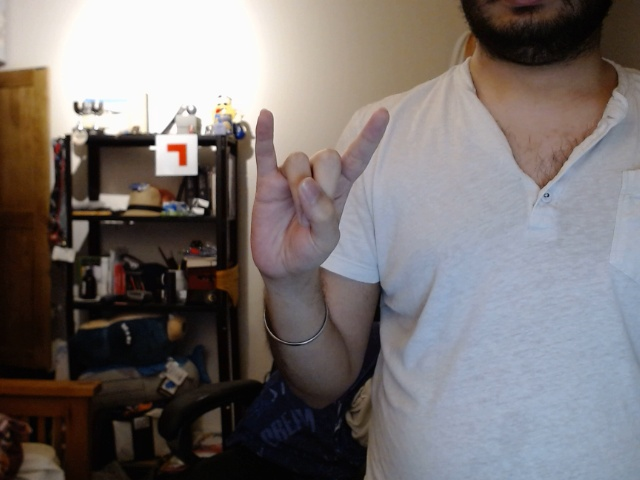Rock on: (219, 105, 401, 294)
